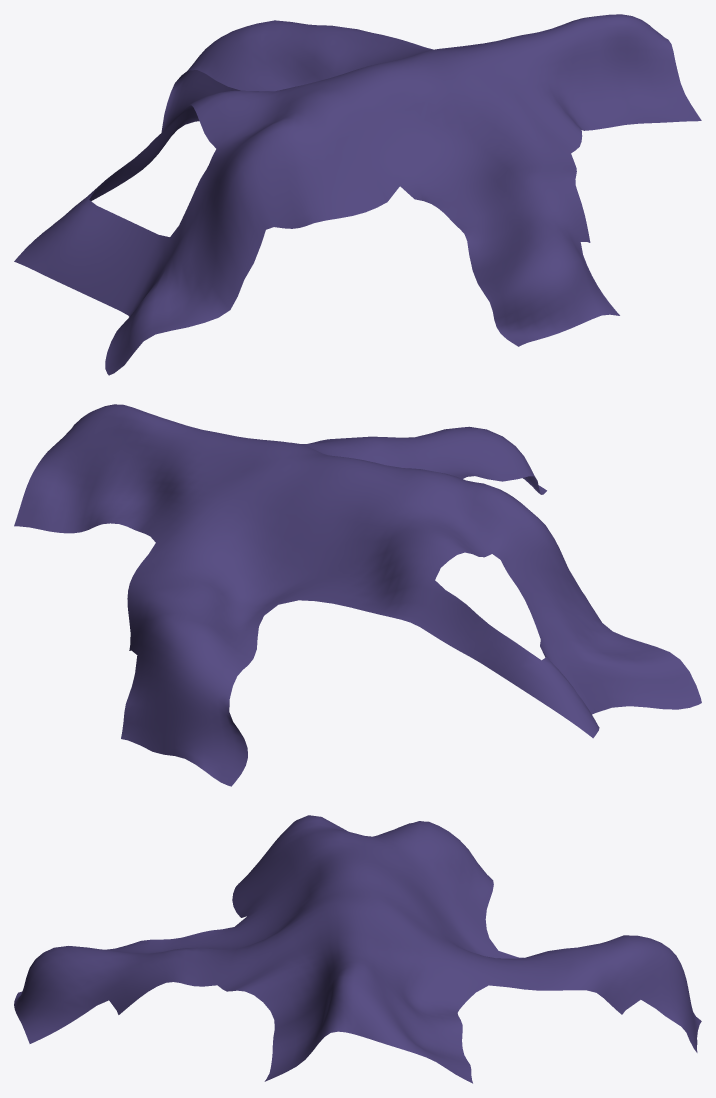
File: Blanket.fbx
3 views of the same model, one above another, from view 1: azimuth 30°, elevation 25°; view 2: azimuth 150°, elevation 25°; view 3: azimuth 270°, elevation 25° (orthographic).
Visible parts, largest first — view 1: Blanket_Cover01:blanket; view 2: Blanket_Cover01:blanket; view 3: Blanket_Cover01:blanket.
Part boxes in pixels (bbox=[...]): Blanket_Cover01:blanket: bbox=[14, 14, 701, 375]; Blanket_Cover01:blanket: bbox=[14, 404, 701, 786]; Blanket_Cover01:blanket: bbox=[14, 815, 701, 1083].
Bounding box in the file's own units: 29.63 × 9.35 × 29.86.
